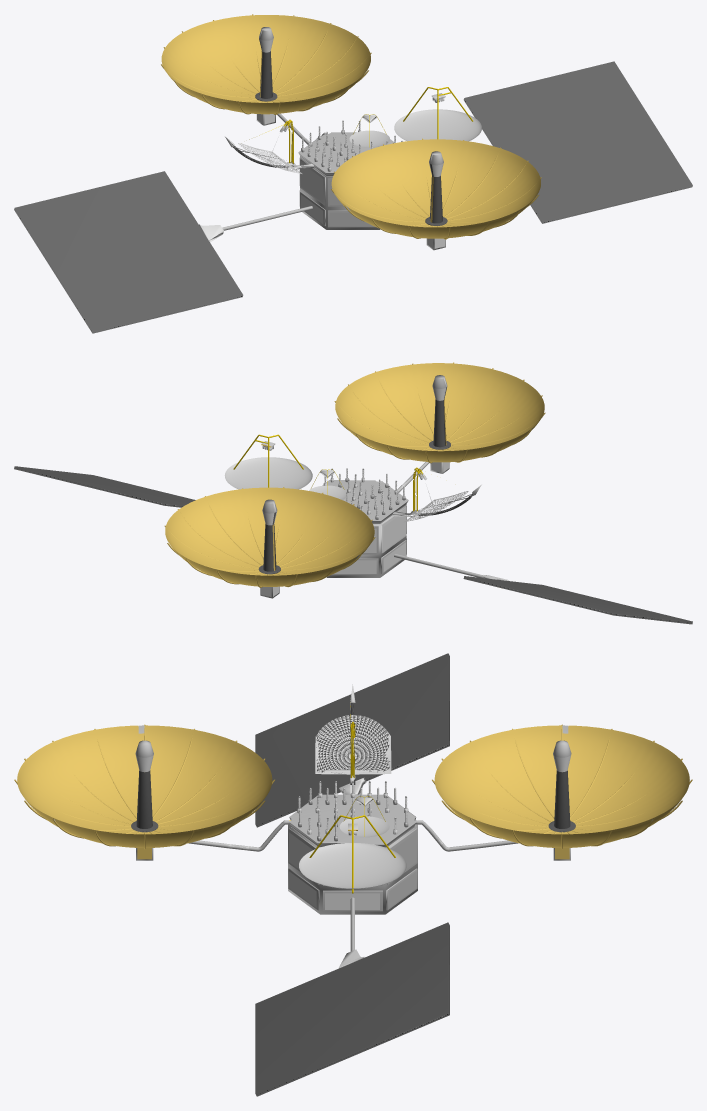
Rendered from Tracking and Data Relay Satellite.glb.
The picture shows the model from 3 angles, top to bottom: view 1: azimuth 30°, elevation 25°; view 2: azimuth 150°, elevation 25°; view 3: azimuth 270°, elevation 25°; orthographic projection. The views are drawn at different scales.
Visible parts, largest first — view 1: Fake; view 2: Fake; view 3: Fake.
Part boxes in pixels (<box>): Fake: <box>14,14,692,333</box>; Fake: <box>14,362,692,624</box>; Fake: <box>14,653,692,1096</box>.
Bounding box in the file's own units: 94.44 × 21.24 × 75.45.
